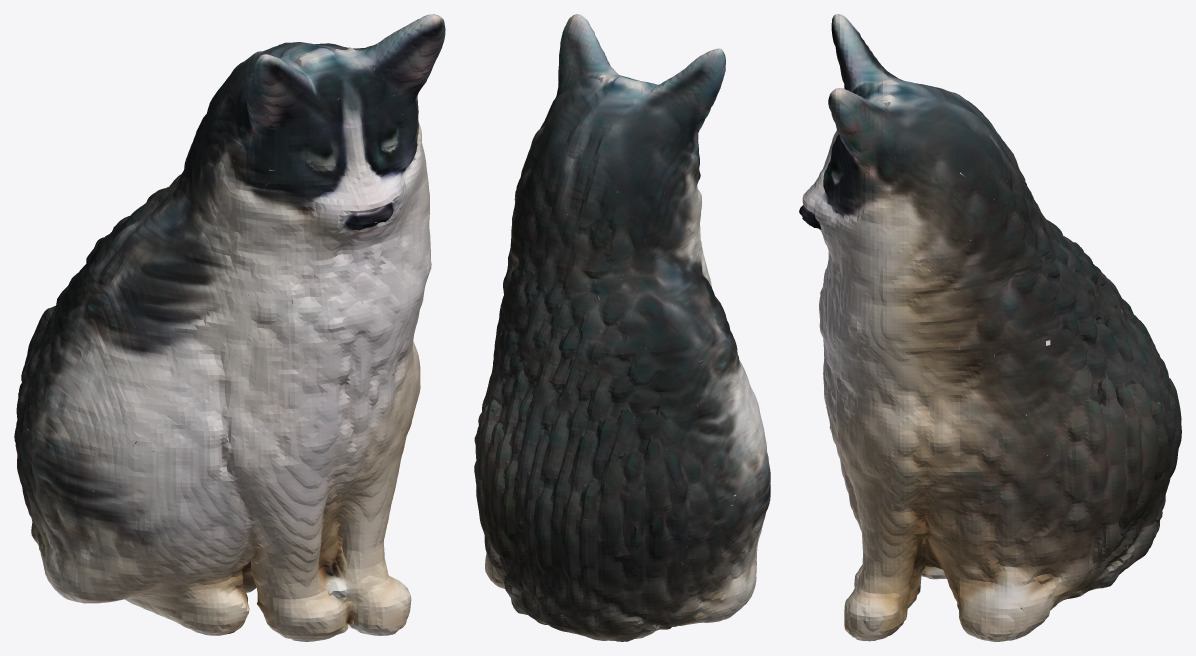
The model's file is bigode_v2.glb.
3 renders of one model, left to right at view 1: azimuth 30°, elevation 25°; view 2: azimuth 150°, elevation 25°; view 3: azimuth 270°, elevation 25°, orthographic. The views are drawn at different scales.
Visible parts, largest first — view 1: geometry_0; view 2: geometry_0; view 3: geometry_0.
Part boxes in pixels (<box>): geometry_0: <box>14,14,445,641</box>; geometry_0: <box>474,14,770,641</box>; geometry_0: <box>799,14,1181,641</box>.
Bounding box in the file's own units: 0.5477 × 0.9893 × 0.6083.
1 material, 1 textured.
